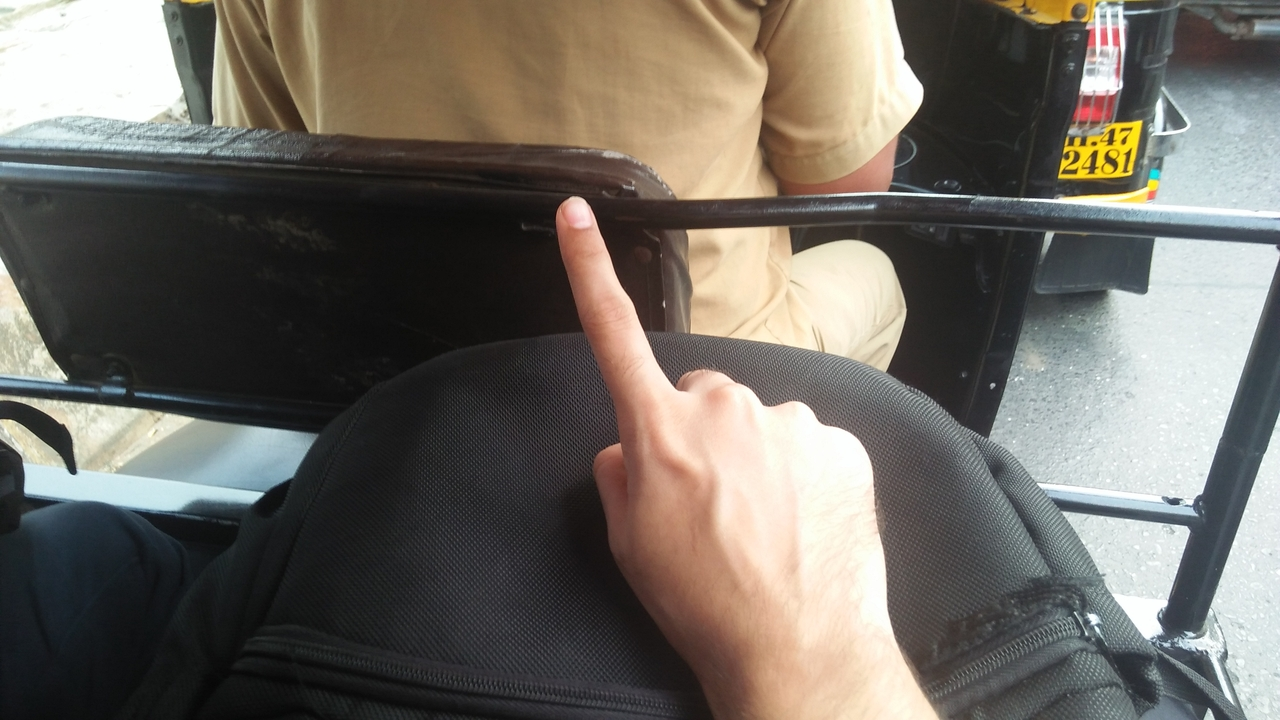fingertip: (546, 188, 602, 252)
